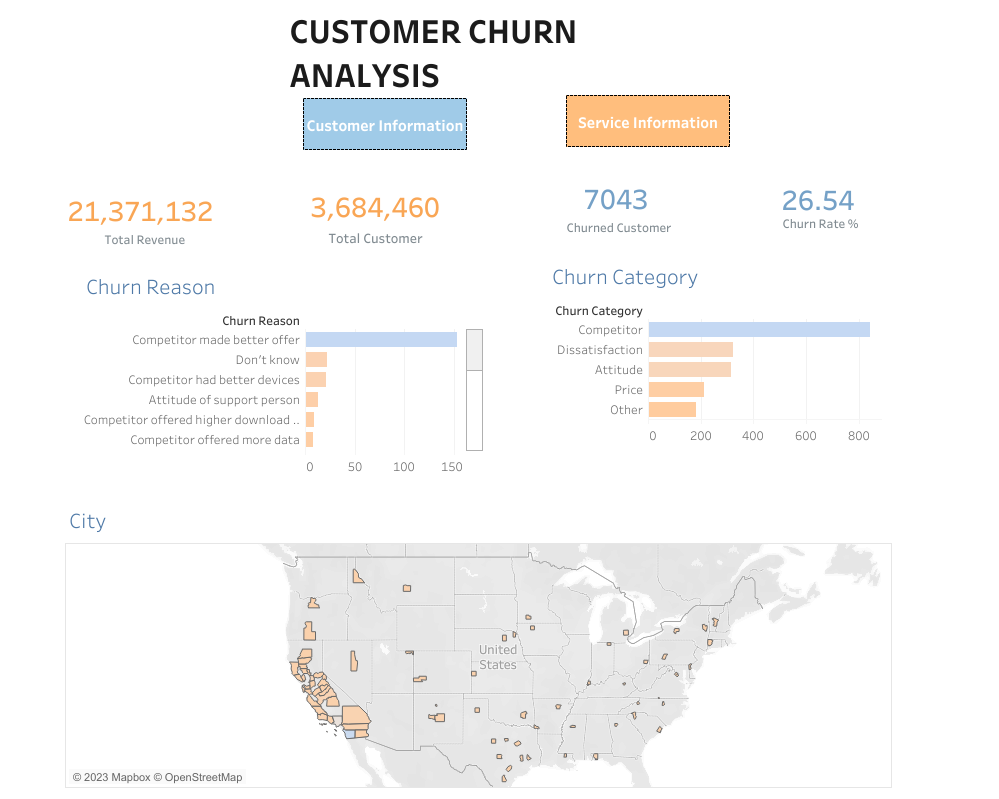

What the dashboard file says about the page in this screenshot:
{"tool":"tableau","page":{"name":"Customer Churn Overview","canvas":[1000,800],"ordinal":1},"visuals":[{"type":"blank","box":[0,0,1000,800]},{"type":"text","box":[271,8,491,44]},{"type":"dashboard-object","box":[442,83,164,52]},{"type":"dashboard-object","box":[263,84,162,50]},{"type":"dashboard-object","box":[620,84,163,50]},{"type":"worksheet","title":"Number of Churned Customer","mark":"Automatic","box":[572,169,247,131]},{"type":"worksheet","title":"Total Customer","mark":"Automatic","box":[387,170,197,148]},{"type":"worksheet","title":"Total Revenue","mark":"Automatic","box":[115,196,217,92]},{"type":"worksheet","title":"Churn Reason","mark":"Automatic","rows":["Churn Reason"],"cols":["Customer ID"],"box":[21,305,458,473]},{"type":"worksheet","title":"Revenue","mark":"Automatic","rows":["Customer Status"],"cols":["Total Revenue"],"box":[539,332,333,197]},{"type":"worksheet","title":"Churn Category","mark":"Automatic","box":[537,534,436,239]}]}

Visuals, with their boxes in screenshot pixels (x1, y1, x2, y2), scaled from the page's 1000x800 canvas onto the 999x799 screenshot:
blank: 0 0 998 798
text: 271 8 761 52
dashboard-object: 442 83 605 135
dashboard-object: 263 84 425 134
dashboard-object: 619 84 782 134
"Number of Churned Customer" worksheet: 571 169 818 300
"Total Customer" worksheet: 387 170 583 318
"Total Revenue" worksheet: 115 196 332 288
"Churn Reason" worksheet: 21 305 479 777
"Revenue" worksheet: 538 332 871 528
"Churn Category" worksheet: 536 533 972 772
